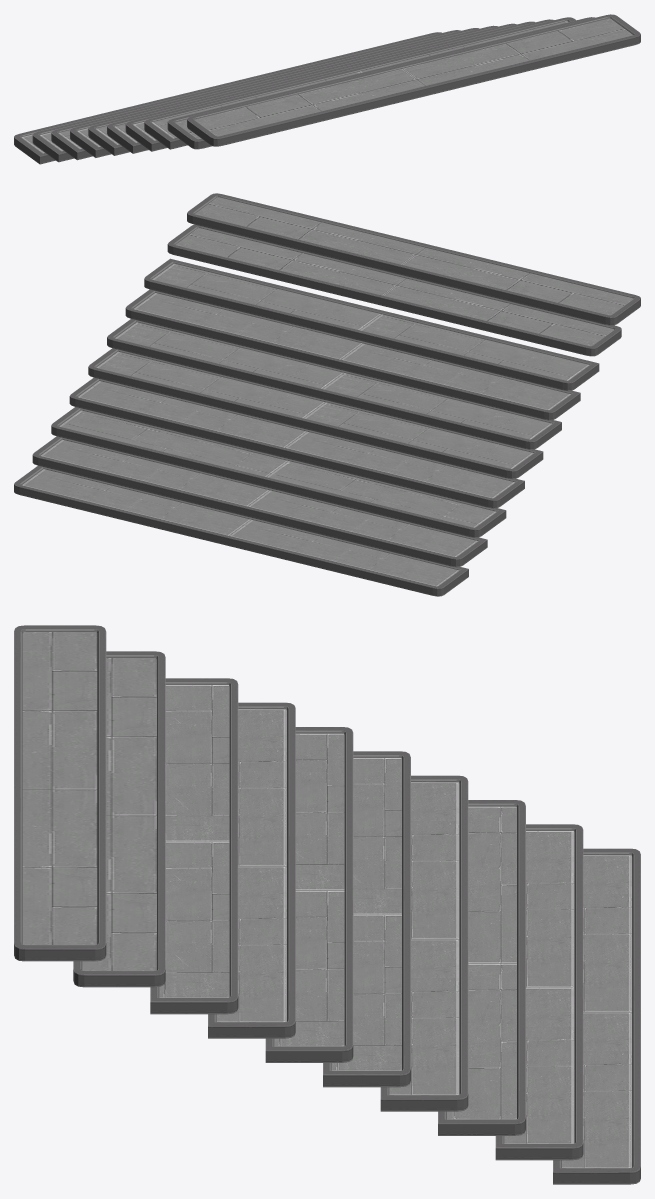
Rendered from Club_Stairs_02.FBX.
3 views of the same model, one above another, from view 1: azimuth 30°, elevation 25°; view 2: azimuth 150°, elevation 25°; view 3: azimuth 270°, elevation 25° (orthographic). The views are drawn at different scales.
Parts seen in each view (by area): view 1: Club_Stairs_02; view 2: Club_Stairs_02; view 3: Club_Stairs_02.
Part boxes in pixels (x1=…): Club_Stairs_02: x1=14, y1=14, x2=640, y2=164; Club_Stairs_02: x1=14, y1=193, x2=640, y2=596; Club_Stairs_02: x1=14, y1=625, x2=640, y2=1184.
Size of the model in its own units: 3.99 by 1.36 by 3.27.
